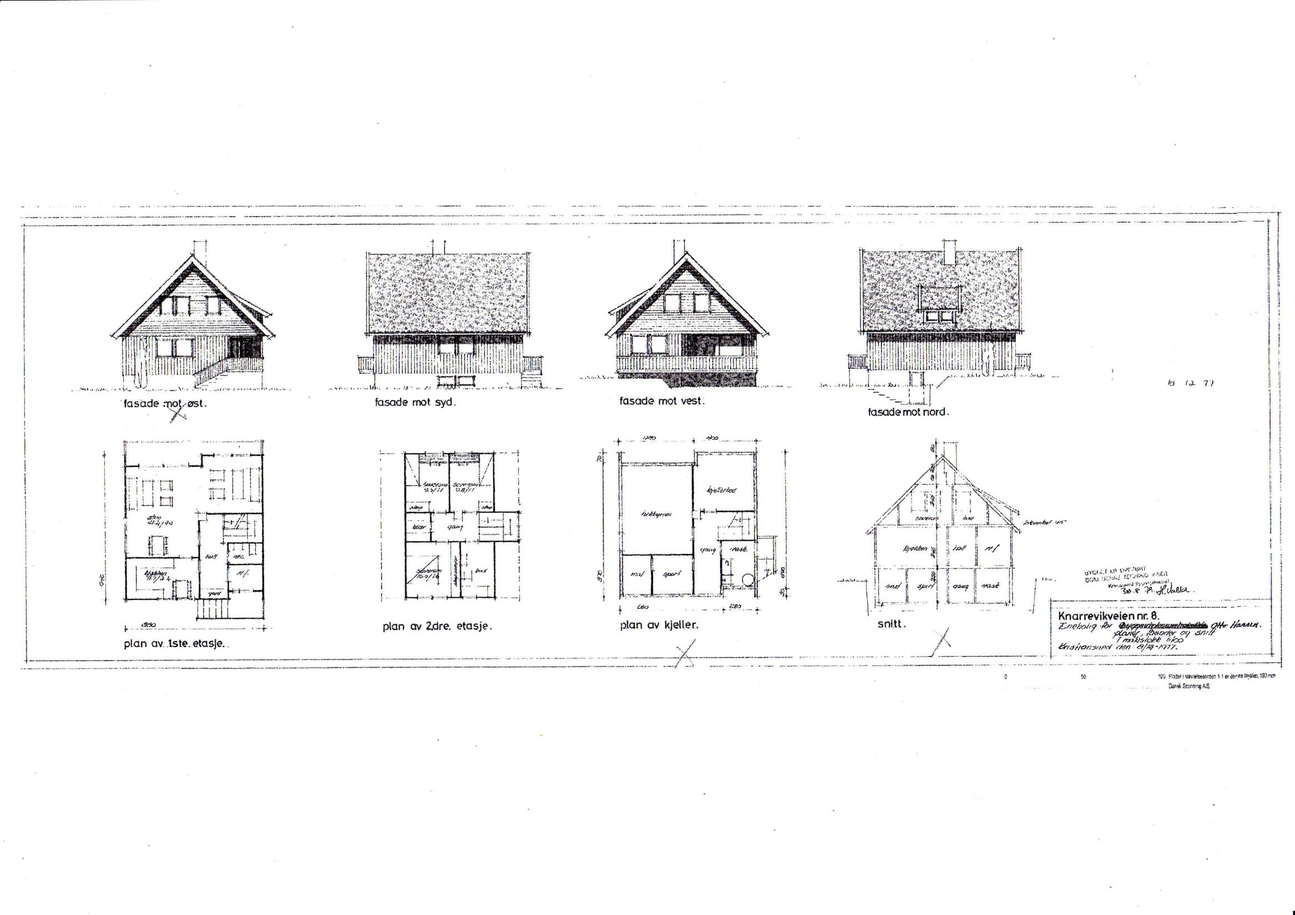fasade: (840, 228, 1060, 402), (356, 235, 558, 394), (98, 238, 282, 398), (598, 236, 778, 389)
plantegning: (594, 433, 798, 616), (107, 435, 274, 626), (385, 441, 528, 607)
snitt: (854, 435, 1024, 610)
